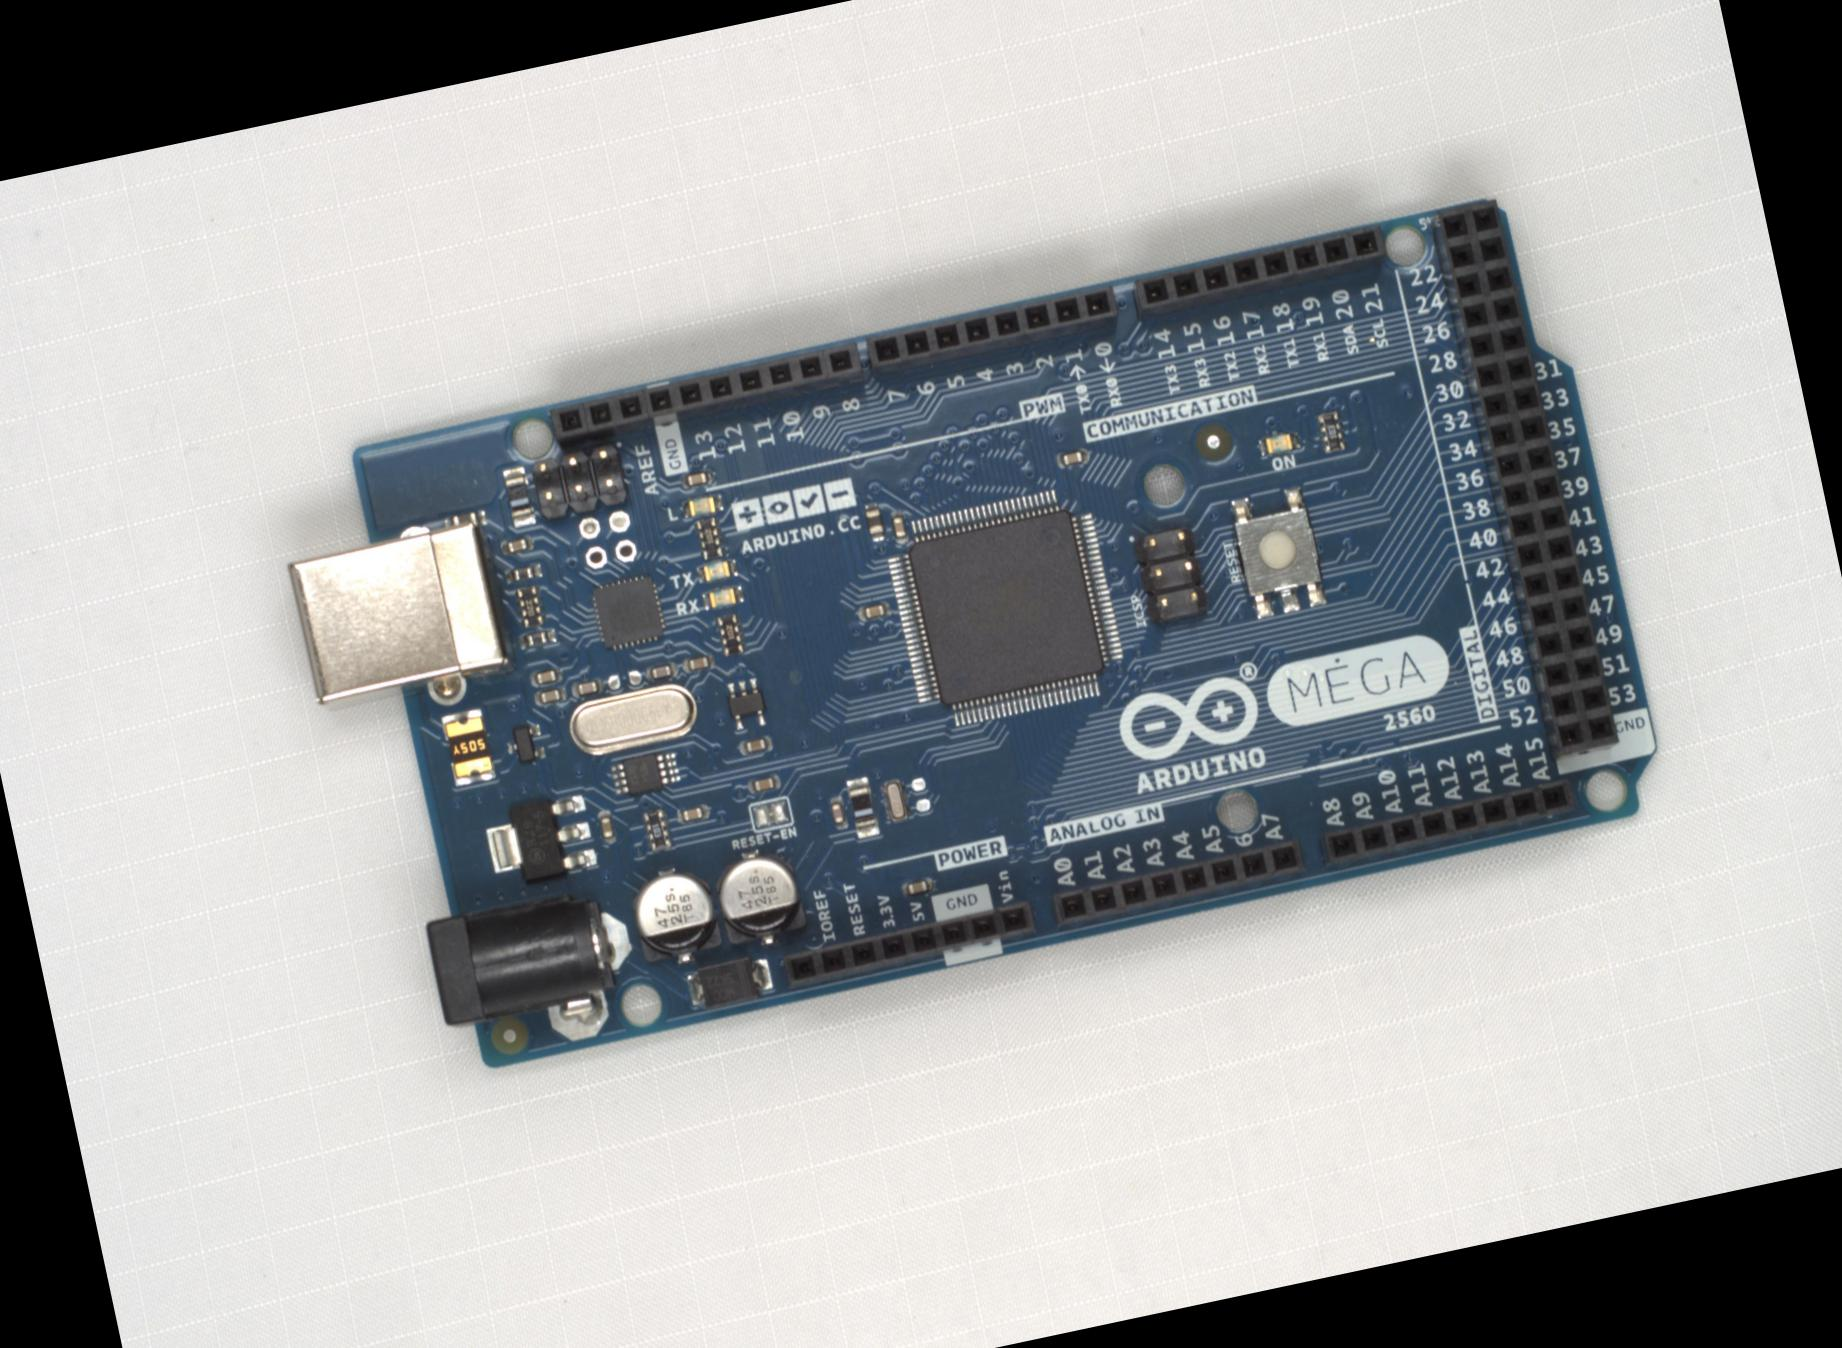Button: (1228, 483, 1330, 622)
Capacitor: (442, 509, 488, 533), (1055, 443, 1094, 472), (898, 875, 937, 901), (735, 733, 774, 756), (498, 533, 535, 556), (642, 659, 679, 682), (674, 801, 711, 823), (532, 683, 566, 708), (681, 652, 715, 676), (528, 665, 563, 688), (855, 598, 891, 620), (568, 676, 604, 699), (745, 772, 781, 795), (595, 808, 616, 845), (828, 793, 848, 831), (888, 509, 910, 543), (679, 469, 714, 490)
Clock: (562, 678, 704, 760), (882, 775, 910, 823)
Connector: (1429, 202, 1617, 759), (419, 881, 646, 1069), (286, 520, 512, 709), (546, 343, 865, 446), (862, 283, 1118, 377), (1127, 229, 1386, 322), (777, 901, 1035, 989), (1317, 779, 1577, 866), (1048, 842, 1304, 926), (1128, 522, 1211, 629), (529, 442, 629, 519), (575, 507, 638, 570)
Diode: (845, 773, 880, 841), (501, 465, 536, 529)
Electrolytic Capacitor: (624, 856, 725, 971), (706, 839, 807, 953)
Fuse: (436, 703, 498, 791)
IC: (875, 480, 1133, 735), (479, 788, 598, 891), (586, 569, 669, 656), (684, 951, 777, 1014), (606, 745, 684, 801), (719, 672, 768, 733), (502, 719, 546, 766)
Led: (681, 492, 725, 520), (1257, 429, 1301, 457), (699, 585, 744, 610), (695, 556, 737, 583)
Pads: (747, 793, 795, 833), (907, 770, 932, 815), (604, 666, 644, 690)
Resistor Jumper: (694, 515, 725, 562), (641, 808, 672, 853), (1316, 407, 1346, 455), (513, 582, 543, 628), (716, 610, 745, 658)
Resistor Network: (502, 562, 542, 583), (864, 500, 884, 543), (518, 628, 555, 649)
